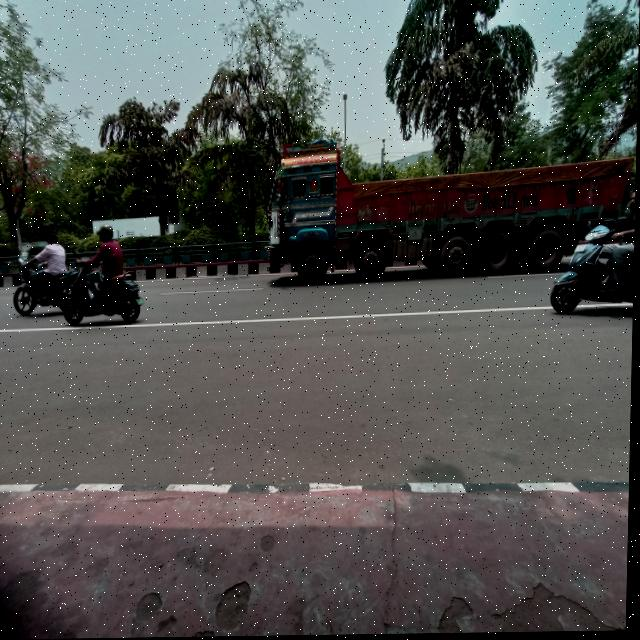bike: (551, 214, 635, 321), (65, 254, 150, 336), (15, 261, 67, 318)
